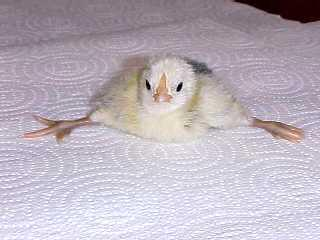AbNormal: (21, 48, 310, 161)
